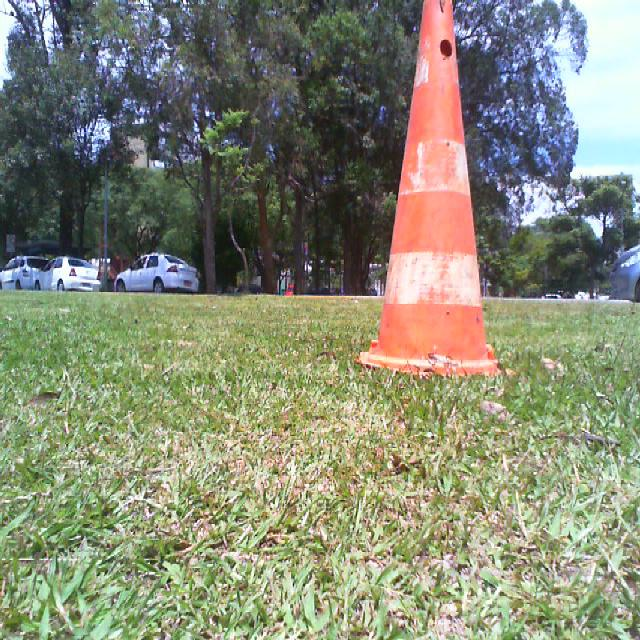cone: (358, 0, 517, 379)
